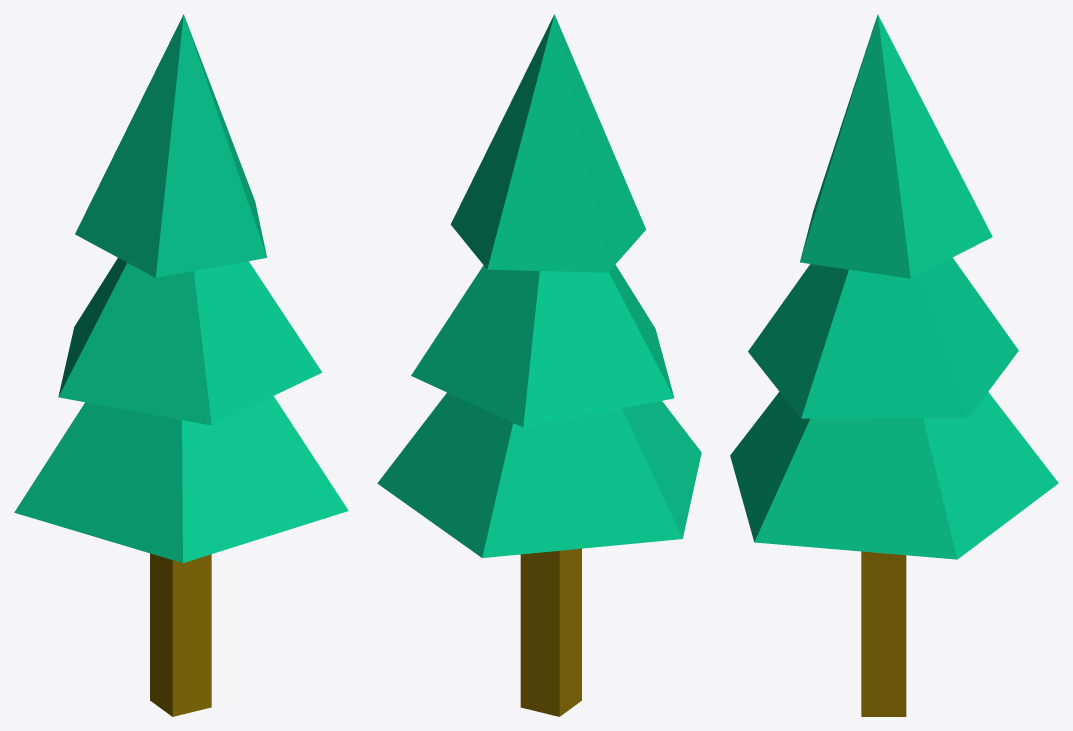
The model's file is GreenTree Model.fbx.
The picture shows the model from 3 angles, left to right: view 1: azimuth 30°, elevation 25°; view 2: azimuth 150°, elevation 25°; view 3: azimuth 270°, elevation 25°; orthographic projection.
Visible parts, largest first — view 1: Top, Bottom; view 2: Top, Bottom; view 3: Top, Bottom.
Boxes of the visible parts, x1=… form: Top: x1=14, y1=14, x2=348, y2=562; Bottom: x1=150, y1=553, x2=211, y2=716; Top: x1=377, y1=14, x2=701, y2=557; Bottom: x1=520, y1=548, x2=581, y2=716; Top: x1=730, y1=14, x2=1058, y2=559; Bottom: x1=861, y1=551, x2=906, y2=716.
Size of the model in its own units: 1.99 by 4.57 by 1.96.
